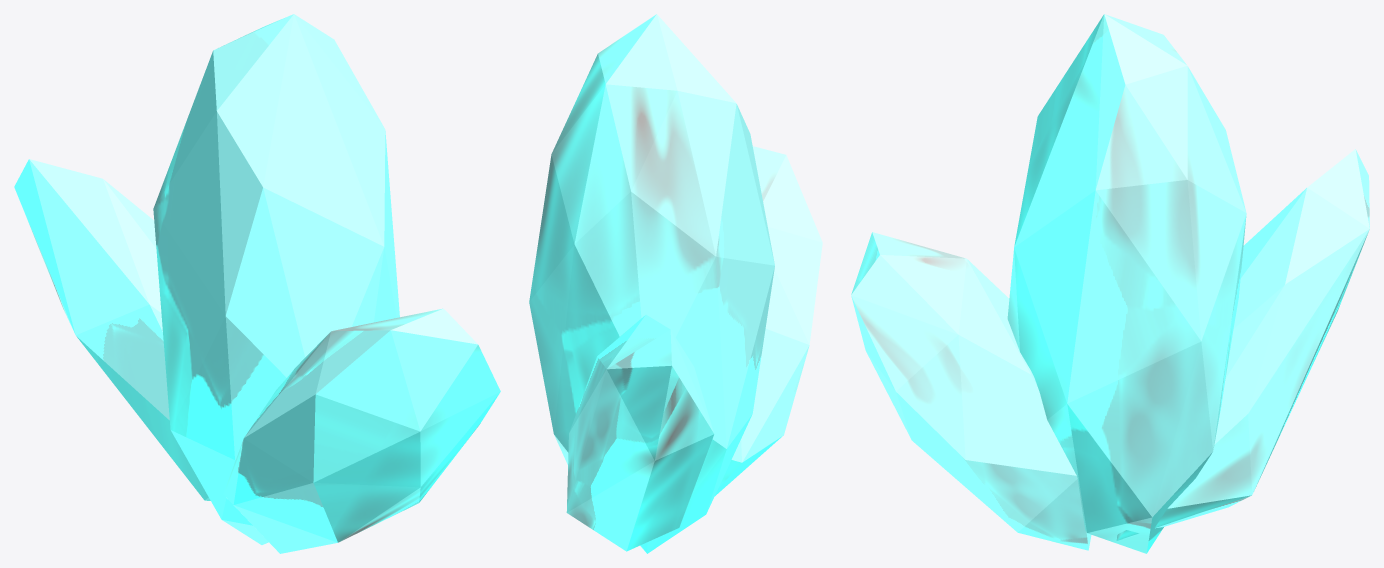
The model's file is crystal-2.glb.
3 views of the same model, side by side, from view 1: azimuth 30°, elevation 25°; view 2: azimuth 150°, elevation 25°; view 3: azimuth 270°, elevation 25° (orthographic). The views are drawn at different scales.
Parts seen in each view (by area): view 1: Icosphere.006; view 2: Icosphere.006; view 3: Icosphere.006.
Boxes of the visible parts, bbox=[...] form: Icosphere.006: bbox=[14, 14, 500, 553]; Icosphere.006: bbox=[529, 14, 822, 553]; Icosphere.006: bbox=[851, 14, 1369, 553].
Bounding box in the file's own units: 2.47 × 4.85 × 4.18.
